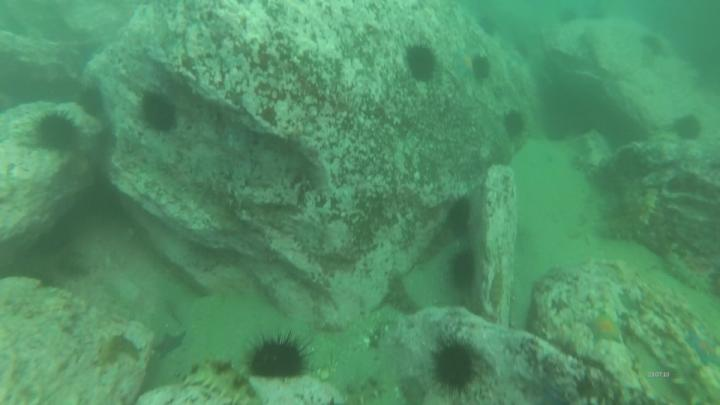echinus: (430, 335, 487, 401), (250, 336, 306, 381), (37, 108, 85, 153), (140, 90, 181, 135), (404, 41, 441, 83), (447, 244, 478, 291), (445, 195, 477, 237), (498, 105, 530, 145), (672, 111, 705, 144), (75, 85, 107, 118), (468, 54, 499, 86)
holothurian: (177, 358, 263, 405), (662, 245, 718, 297), (603, 190, 658, 236), (388, 272, 420, 316)
starfish: (585, 310, 630, 349), (686, 329, 720, 370)
